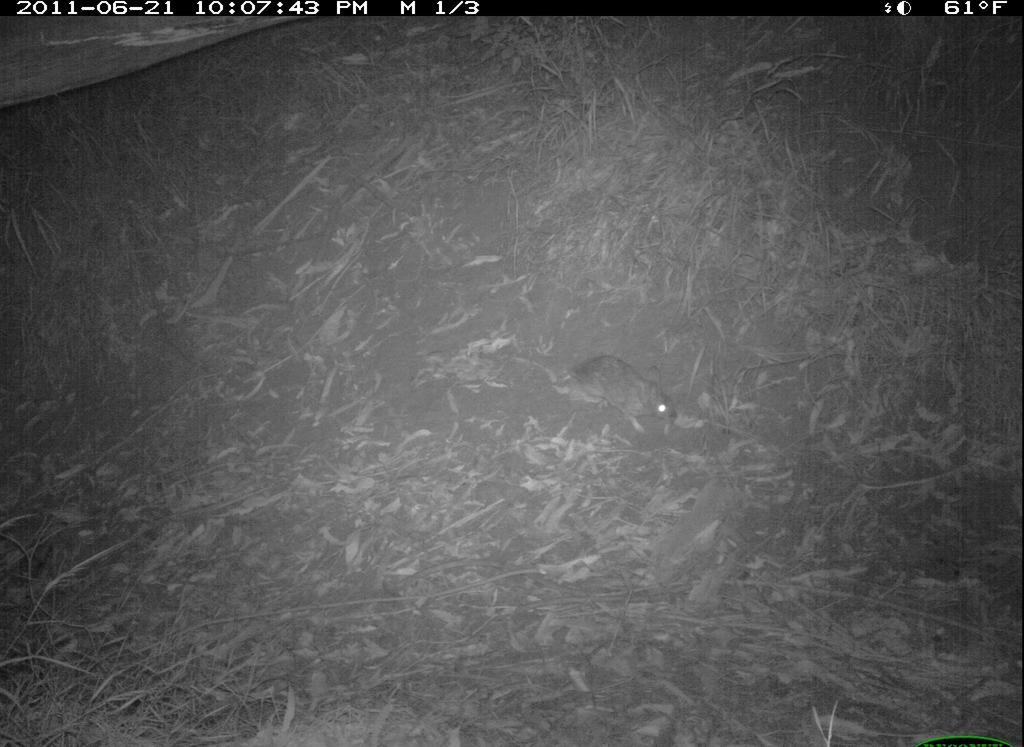rabbit: (569, 347, 693, 436)
